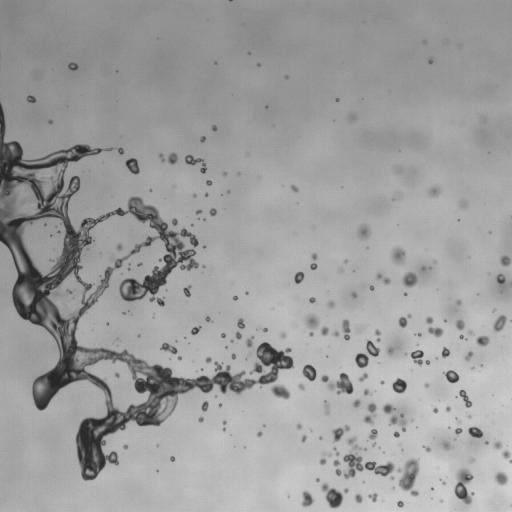droplet: (453, 468, 474, 504), (354, 339, 380, 368), (319, 372, 353, 394), (320, 483, 348, 509), (410, 349, 432, 366), (304, 313, 319, 337), (390, 246, 406, 265), (402, 271, 417, 288), (302, 364, 317, 381), (493, 314, 507, 332), (158, 152, 178, 164), (392, 377, 407, 393), (357, 223, 371, 240), (493, 470, 508, 485), (125, 158, 139, 174), (442, 370, 459, 383), (301, 490, 314, 507), (375, 270, 390, 284), (398, 313, 412, 328), (427, 184, 441, 197), (319, 451, 332, 465), (468, 426, 483, 438), (476, 335, 489, 346), (366, 428, 377, 441), (501, 449, 511, 463), (294, 271, 304, 284), (500, 255, 511, 266), (20, 151, 31, 162), (79, 154, 90, 165), (158, 211, 169, 222), (153, 238, 164, 249), (397, 264, 408, 275), (109, 273, 120, 284), (392, 275, 403, 286), (307, 303, 318, 314), (442, 323, 453, 334), (482, 325, 493, 336), (435, 336, 446, 347), (466, 338, 477, 349), (272, 340, 283, 351), (219, 355, 230, 366), (441, 358, 452, 369), (45, 359, 56, 370), (292, 359, 303, 370), (204, 367, 215, 378), (186, 369, 197, 380), (347, 372, 358, 383), (274, 374, 285, 385), (80, 378, 91, 389), (56, 386, 67, 397), (326, 388, 337, 399), (95, 407, 106, 418), (216, 408, 227, 419), (372, 417, 383, 428), (356, 434, 367, 445), (336, 438, 347, 449), (67, 440, 78, 451), (430, 440, 441, 451), (339, 443, 350, 454), (413, 449, 424, 460), (393, 458, 404, 469), (71, 461, 82, 472), (391, 469, 402, 480), (399, 489, 410, 500), (315, 491, 326, 502), (341, 493, 352, 504), (391, 191, 402, 201), (495, 273, 505, 284), (455, 319, 465, 330), (190, 325, 201, 335), (492, 438, 502, 449), (245, 336, 254, 348), (441, 346, 450, 358), (458, 199, 468, 209), (358, 372, 368, 382), (367, 492, 377, 502), (183, 285, 191, 297), (355, 324, 365, 333), (320, 326, 329, 336), (386, 346, 395, 356), (464, 351, 473, 361), (67, 62, 78, 70), (237, 318, 245, 329), (347, 113, 356, 122), (204, 129, 213, 138), (176, 155, 185, 164), (359, 215, 368, 224), (71, 221, 80, 230), (172, 224, 181, 233), (368, 224, 377, 233), (349, 225, 358, 234), (365, 235, 374, 244), (383, 251, 392, 260), (403, 253, 412, 262), (170, 266, 179, 275), (302, 266, 311, 275), (414, 270, 423, 279), (374, 280, 383, 289), (8, 306, 17, 315), (471, 342, 480, 351), (330, 373, 339, 382), (361, 379, 370, 388), (452, 381, 461, 390), (284, 382, 293, 391), (95, 387, 104, 396), (202, 391, 211, 400), (49, 395, 58, 404), (360, 396, 369, 405), (374, 406, 383, 415), (126, 419, 135, 428), (363, 422, 372, 431), (70, 424, 79, 433), (100, 445, 109, 454), (402, 452, 411, 461), (376, 456, 385, 465), (339, 461, 348, 470), (467, 465, 476, 474), (97, 468, 106, 477), (411, 480, 420, 489), (464, 481, 473, 490), (26, 95, 36, 103), (392, 165, 402, 173), (354, 493, 362, 503), (290, 184, 299, 192), (326, 300, 335, 308), (330, 329, 339, 337), (352, 399, 361, 407), (443, 441, 451, 450), (422, 444, 431, 452), (201, 401, 208, 411), (505, 264, 511, 275), (505, 309, 511, 320), (505, 319, 511, 330), (505, 468, 511, 479), (303, 505, 314, 511), (209, 208, 217, 216), (363, 388, 372, 395), (431, 404, 438, 413), (310, 252, 317, 260), (310, 262, 317, 270), (309, 297, 317, 304), (205, 316, 213, 323), (234, 331, 241, 339), (205, 356, 212, 364), (298, 382, 305, 390), (350, 291, 357, 298), (468, 456, 475, 463), (397, 500, 404, 507), (2, 109, 9, 116), (3, 117, 10, 124), (2, 135, 9, 142), (78, 138, 85, 145), (88, 142, 95, 149), (122, 153, 129, 160), (67, 160, 74, 167), (194, 162, 201, 169), (202, 172, 209, 179), (62, 177, 69, 184), (425, 181, 432, 188), (204, 185, 211, 192), (60, 187, 67, 194), (437, 192, 444, 199), (431, 195, 438, 202), (142, 198, 149, 205), (120, 203, 127, 210), (202, 209, 209, 216), (91, 212, 98, 219), (166, 224, 173, 231), (402, 244, 409, 251), (140, 245, 147, 252), (499, 249, 506, 256), (494, 259, 501, 266), (158, 260, 165, 267), (126, 271, 133, 278), (384, 271, 391, 278), (11, 272, 18, 279), (165, 273, 172, 280), (136, 276, 143, 283), (157, 284, 164, 291), (404, 285, 411, 292), (327, 293, 334, 300), (6, 296, 13, 303), (334, 300, 341, 307), (85, 307, 92, 314), (327, 307, 334, 314), (491, 313, 498, 320), (430, 321, 437, 328), (35, 324, 42, 331), (327, 326, 334, 333), (313, 327, 320, 334), (421, 328, 428, 335), (460, 328, 467, 335), (475, 330, 482, 337), (228, 331, 235, 338), (325, 332, 332, 339), (427, 332, 434, 339), (240, 334, 247, 341), (470, 335, 477, 342), (222, 337, 229, 344), (168, 339, 175, 346), (252, 340, 259, 347), (108, 344, 115, 351), (115, 346, 122, 353), (164, 349, 171, 356), (147, 359, 154, 366), (199, 360, 206, 367), (160, 361, 167, 368), (359, 366, 366, 373), (228, 368, 235, 375), (277, 368, 284, 375), (315, 371, 322, 378), (252, 372, 259, 379), (301, 376, 308, 383), (272, 379, 279, 386), (67, 381, 74, 388), (266, 381, 273, 388), (252, 382, 259, 389), (212, 383, 219, 390), (192, 385, 199, 392), (242, 387, 249, 394), (340, 390, 347, 397), (276, 395, 283, 402), (28, 400, 35, 407), (437, 405, 444, 412), (197, 409, 204, 416), (390, 409, 397, 416), (200, 410, 207, 417), (384, 412, 391, 419), (146, 423, 153, 430), (114, 428, 121, 435), (461, 428, 468, 435), (296, 429, 303, 436), (340, 433, 347, 440), (495, 434, 502, 441), (500, 443, 507, 450), (495, 448, 502, 455), (409, 452, 416, 459), (336, 454, 343, 461), (325, 457, 332, 464), (489, 469, 496, 476), (392, 478, 399, 485), (491, 480, 498, 487), (499, 483, 506, 490), (335, 485, 342, 492), (361, 494, 368, 501), (297, 495, 304, 502), (456, 497, 463, 504), (322, 500, 329, 507), (301, 434, 307, 442), (506, 472, 511, 481), (331, 506, 340, 511), (211, 124, 217, 131), (116, 243, 122, 250), (467, 330, 474, 336), (230, 353, 237, 359), (445, 405, 451, 412), (296, 422, 302, 429), (393, 430, 399, 437), (206, 180, 212, 186), (338, 267, 344, 273), (455, 299, 461, 305), (220, 332, 226, 338), (280, 332, 286, 338), (195, 209, 202, 214), (172, 218, 177, 225), (257, 430, 262, 437), (428, 58, 433, 64), (200, 136, 205, 142), (232, 295, 238, 300), (177, 355, 182, 361), (114, 372, 119, 378), (424, 382, 429, 388), (198, 416, 203, 422), (507, 252, 511, 259), (507, 446, 511, 453), (396, 507, 403, 511), (48, 119, 53, 124), (222, 171, 227, 176), (204, 192, 209, 197), (369, 285, 374, 290), (484, 440, 489, 445), (123, 444, 128, 449), (170, 456, 175, 461), (73, 58, 78, 63), (30, 91, 35, 96), (216, 125, 221, 130), (196, 134, 201, 139), (19, 142, 24, 147), (105, 143, 110, 148), (63, 144, 68, 149), (56, 145, 61, 150), (112, 148, 117, 153), (99, 150, 104, 155), (39, 152, 44, 157), (163, 154, 168, 159), (192, 154, 197, 159), (155, 156, 160, 161), (163, 159, 168, 164), (136, 160, 141, 165), (172, 162, 177, 167), (123, 166, 128, 171), (201, 181, 206, 186), (294, 182, 299, 187), (78, 185, 83, 190), (287, 187, 292, 192), (221, 188, 226, 193), (222, 191, 227, 196), (132, 192, 137, 197), (70, 194, 75, 199), (215, 207, 220, 212), (102, 209, 107, 214), (198, 212, 203, 217), (214, 212, 219, 217), (83, 213, 88, 218), (186, 227, 191, 232), (150, 240, 155, 245), (197, 241, 202, 246), (193, 245, 198, 250), (309, 248, 314, 253), (132, 252, 137, 257), (316, 253, 321, 258), (191, 254, 196, 259), (8, 257, 13, 262), (309, 258, 314, 263), (313, 258, 318, 263), (121, 259, 126, 264), (9, 260, 14, 265), (427, 260, 432, 265), (341, 263, 346, 268), (197, 265, 202, 270), (190, 266, 195, 271), (294, 267, 299, 272), (371, 272, 376, 277), (492, 272, 497, 277), (289, 275, 294, 280), (299, 280, 304, 285), (503, 280, 508, 285), (494, 281, 499, 286), (384, 283, 389, 288), (104, 287, 109, 292), (188, 287, 193, 292), (7, 290, 12, 295), (145, 290, 150, 295), (179, 290, 184, 295), (346, 290, 351, 295), (355, 290, 360, 295), (116, 293, 121, 298), (456, 294, 461, 299), (347, 295, 352, 300), (332, 297, 337, 302), (351, 297, 356, 302), (451, 297, 456, 302), (134, 298, 139, 303), (460, 298, 465, 303), (152, 299, 157, 304), (127, 300, 132, 305), (93, 301, 98, 306), (453, 303, 458, 308), (402, 312, 407, 317), (428, 312, 433, 317), (209, 315, 214, 320), (18, 316, 23, 321), (421, 316, 426, 321), (405, 317, 410, 322), (25, 319, 30, 324), (232, 319, 237, 324), (504, 319, 509, 324), (76, 320, 81, 325), (394, 320, 399, 325), (348, 324, 353, 329), (187, 325, 192, 330), (306, 327, 311, 332), (378, 327, 383, 332), (238, 328, 243, 333), (458, 329, 463, 334), (498, 329, 503, 334), (186, 331, 191, 336), (339, 331, 344, 336), (441, 331, 446, 336), (285, 333, 290, 338), (216, 334, 221, 339), (233, 337, 238, 342), (76, 341, 81, 346), (373, 341, 378, 346), (95, 343, 100, 348), (174, 343, 179, 348), (391, 343, 396, 348), (417, 345, 422, 350), (437, 347, 442, 352), (126, 348, 131, 353), (393, 348, 398, 353), (176, 350, 181, 355), (462, 350, 467, 355), (437, 352, 442, 357), (172, 353, 177, 358), (226, 353, 231, 358), (351, 353, 356, 358), (134, 354, 139, 359), (201, 354, 206, 359), (420, 355, 425, 360), (469, 355, 474, 360), (408, 357, 413, 362), (291, 358, 296, 363), (351, 360, 356, 365), (413, 362, 418, 367), (312, 363, 317, 368), (474, 363, 479, 368), (249, 364, 254, 369), (343, 369, 348, 374), (455, 369, 460, 374), (170, 372, 175, 377), (400, 375, 405, 380), (441, 375, 446, 380), (363, 377, 368, 382), (391, 377, 396, 382), (421, 378, 426, 383), (321, 381, 326, 386), (351, 383, 356, 388), (419, 383, 424, 388), (388, 386, 393, 391), (404, 386, 409, 391), (421, 386, 426, 391), (368, 387, 373, 392), (393, 391, 398, 396), (176, 392, 181, 397), (457, 395, 462, 400), (467, 395, 472, 400), (197, 401, 202, 406), (174, 404, 179, 409), (206, 405, 211, 410), (328, 405, 333, 410), (428, 406, 433, 411), (466, 406, 471, 411), (171, 410, 176, 415), (365, 410, 370, 415), (447, 410, 452, 415), (403, 414, 408, 419), (293, 419, 298, 424), (159, 421, 164, 426), (468, 422, 473, 427), (291, 423, 296, 428), (339, 423, 344, 428), (457, 423, 462, 428), (332, 424, 337, 429), (404, 424, 409, 429), (451, 424, 456, 429), (477, 424, 482, 429), (260, 427, 265, 432), (396, 427, 401, 432), (224, 429, 229, 434), (305, 431, 310, 436), (375, 432, 380, 437), (451, 432, 456, 437), (329, 433, 334, 438), (466, 433, 471, 438), (297, 434, 302, 439), (101, 435, 106, 440), (473, 436, 478, 441), (368, 438, 373, 443), (449, 440, 454, 445), (488, 440, 493, 445), (428, 443, 433, 448), (438, 443, 443, 448), (441, 448, 446, 453), (447, 448, 452, 453), (330, 449, 335, 454), (317, 454, 322, 459), (331, 454, 336, 459), (368, 457, 373, 462), (504, 457, 509, 462), (104, 459, 109, 464), (360, 460, 365, 465), (381, 460, 386, 465), (317, 463, 322, 468), (321, 463, 326, 468), (331, 465, 336, 470), (362, 467, 367, 472), (354, 469, 359, 474), (369, 469, 374, 474), (331, 472, 336, 477), (386, 472, 391, 477), (376, 473, 381, 478), (77, 474, 82, 479), (347, 475, 352, 480), (87, 478, 92, 483), (318, 479, 323, 484), (452, 479, 457, 484), (369, 489, 374, 494), (466, 489, 471, 494), (375, 495, 380, 500), (470, 495, 475, 500), (367, 497, 372, 502), (351, 498, 356, 503), (402, 503, 407, 508), (49, 233, 55, 237), (0, 240, 3, 247), (284, 75, 289, 79), (192, 193, 197, 197), (137, 262, 142, 266), (492, 308, 496, 313), (230, 339, 234, 344), (380, 380, 384, 385), (218, 403, 222, 408), (466, 414, 471, 418), (318, 435, 322, 440), (372, 442, 376, 447), (315, 477, 319, 482), (286, 493, 290, 498), (202, 245, 206, 249), (344, 259, 348, 263), (421, 266, 425, 270), (245, 291, 249, 295), (391, 486, 395, 490), (430, 486, 434, 490), (439, 499, 443, 503), (236, 172, 241, 175), (508, 261, 511, 266), (508, 454, 511, 459), (422, 40, 426, 43), (247, 51, 250, 55), (256, 63, 260, 66), (335, 98, 339, 101), (226, 190, 230, 193), (488, 230, 491, 234), (365, 246, 369, 249), (433, 260, 437, 263), (126, 267, 130, 270), (428, 266, 432, 269), (403, 292, 407, 295), (416, 342, 419, 346), (225, 345, 228, 349), (200, 367, 203, 371), (470, 366, 474, 369), (214, 394, 217, 398), (156, 443, 159, 447), (361, 480, 365, 483), (214, 61, 217, 64), (265, 105, 268, 108), (149, 188, 152, 191), (190, 223, 193, 226), (487, 272, 490, 275), (443, 319, 446, 322), (106, 322, 109, 325), (137, 334, 140, 337), (404, 352, 407, 355), (480, 364, 483, 367), (195, 370, 198, 373), (454, 395, 457, 398), (410, 419, 413, 422), (262, 424, 265, 427), (378, 446, 381, 449), (430, 497, 433, 500), (229, 0, 232, 3), (246, 54, 249, 57), (431, 57, 434, 60), (67, 60, 70, 63), (216, 60, 219, 63), (425, 60, 428, 63), (259, 61, 262, 64), (76, 62, 79, 65), (253, 62, 256, 65), (431, 62, 434, 65), (428, 63, 431, 66), (213, 64, 216, 67), (255, 65, 258, 68), (72, 69, 75, 72), (335, 94, 338, 97), (338, 97, 341, 100), (332, 98, 335, 101), (28, 101, 31, 104), (335, 101, 338, 104), (265, 102, 268, 105), (262, 106, 265, 109), (267, 106, 270, 109), (50, 117, 53, 120), (45, 119, 48, 122), (49, 123, 52, 126), (212, 130, 215, 133), (204, 134, 207, 137), (204, 138, 207, 141), (98, 145, 101, 148), (116, 145, 119, 148), (108, 150, 111, 153), (157, 150, 160, 153), (184, 152, 187, 155), (37, 155, 40, 158), (199, 155, 202, 158), (203, 159, 206, 162), (188, 163, 191, 166), (204, 164, 207, 167), (223, 168, 226, 171), (204, 169, 207, 172), (131, 172, 134, 175), (200, 172, 203, 175), (226, 172, 229, 175), (79, 179, 82, 182), (209, 184, 212, 187), (146, 187, 149, 190), (151, 187, 154, 190), (229, 188, 232, 191), (190, 191, 193, 194), (207, 191, 210, 194), (201, 192, 204, 195), (206, 195, 209, 198), (219, 195, 222, 198), (67, 202, 70, 205), (114, 206, 117, 209), (195, 207, 198, 210), (211, 215, 214, 218), (456, 215, 459, 218), (199, 217, 202, 220), (459, 218, 462, 221), (190, 220, 193, 223), (455, 220, 458, 223), (486, 232, 489, 235), (205, 244, 208, 247), (204, 247, 207, 250), (9, 254, 12, 257), (341, 257, 344, 260), (136, 260, 139, 263), (346, 261, 349, 264), (12, 264, 15, 267), (139, 264, 142, 267), (129, 265, 132, 268), (425, 266, 428, 269), (313, 268, 316, 271), (430, 268, 433, 271), (352, 271, 355, 274), (372, 283, 375, 286), (184, 284, 187, 287), (366, 287, 369, 290), (373, 287, 376, 290), (245, 288, 248, 291), (248, 291, 251, 294), (234, 292, 237, 295), (400, 292, 403, 295), (244, 294, 247, 297), (403, 295, 406, 298), (306, 296, 309, 299), (314, 297, 317, 300), (162, 298, 165, 301), (236, 298, 239, 301), (306, 299, 309, 302), (312, 301, 315, 304), (489, 307, 492, 310), (124, 309, 127, 312), (127, 311, 130, 314), (410, 312, 413, 315), (149, 313, 152, 316), (122, 314, 125, 317), (203, 314, 206, 317), (103, 320, 106, 323), (242, 320, 245, 323), (108, 321, 111, 324), (103, 323, 106, 326), (264, 324, 267, 327), (267, 328, 270, 331), (197, 330, 200, 333), (219, 330, 222, 333), (415, 330, 418, 333), (46, 331, 49, 334), (135, 331, 138, 334), (224, 331, 227, 334), (347, 332, 350, 335), (140, 333, 143, 336), (49, 334, 52, 337), (414, 334, 417, 337), (420, 334, 423, 337), (463, 334, 466, 337), (180, 335, 183, 338), (307, 335, 310, 338), (456, 335, 459, 338), (137, 337, 140, 340), (461, 338, 464, 341), (345, 339, 348, 342), (158, 344, 161, 347), (221, 345, 224, 348), (445, 345, 448, 348), (411, 348, 414, 351), (377, 351, 380, 354), (234, 352, 237, 355), (448, 352, 451, 355), (327, 354, 330, 357), (235, 355, 238, 358), (445, 355, 448, 358), (181, 356, 184, 359), (323, 356, 326, 359), (480, 360, 483, 363), (422, 361, 425, 364), (429, 361, 432, 364), (482, 363, 485, 366), (213, 364, 216, 367), (479, 366, 482, 369), (450, 367, 453, 370), (472, 368, 475, 371), (444, 369, 447, 372), (367, 373, 370, 376), (380, 377, 383, 380), (377, 379, 380, 382), (426, 380, 429, 383), (428, 384, 431, 387), (462, 387, 465, 390), (323, 396, 326, 399), (326, 399, 329, 402), (321, 401, 324, 404), (215, 403, 218, 406), (221, 403, 224, 406), (447, 403, 450, 406), (431, 411, 434, 414), (436, 411, 439, 414), (457, 416, 460, 419), (195, 418, 198, 421), (202, 418, 205, 421), (262, 420, 265, 423), (346, 422, 349, 425), (415, 422, 418, 425), (265, 423, 268, 426), (444, 425, 447, 428), (416, 427, 419, 430), (255, 429, 258, 432), (320, 433, 323, 436), (259, 435, 262, 438), (392, 435, 395, 438), (315, 436, 318, 439), (304, 438, 307, 441), (319, 439, 322, 442), (124, 441, 127, 444), (120, 443, 123, 446), (419, 443, 422, 446), (424, 443, 427, 446), (483, 443, 486, 446), (374, 444, 377, 447), (400, 444, 403, 447), (127, 445, 130, 448), (397, 447, 400, 450), (421, 447, 424, 450), (379, 448, 382, 451), (174, 456, 177, 459), (116, 457, 119, 460), (168, 460, 171, 463), (172, 460, 175, 463), (158, 469, 161, 472), (153, 470, 156, 473), (312, 478, 315, 481), (438, 480, 441, 483), (441, 484, 444, 487), (432, 485, 435, 488), (428, 488, 431, 491), (284, 496, 287, 499), (396, 498, 399, 501), (400, 498, 403, 501), (436, 499, 439, 502), (442, 500, 445, 503), (372, 501, 375, 504), (395, 505, 398, 508), (122, 312, 126, 314), (203, 218, 205, 221), (457, 219, 460, 221), (99, 252, 101, 255), (128, 262, 130, 265), (509, 319, 511, 322), (175, 339, 177, 342), (435, 357, 438, 359), (448, 426, 450, 429), (398, 443, 401, 445), (243, 446, 246, 448), (401, 448, 403, 451), (156, 469, 158, 472), (381, 499, 384, 501), (116, 70, 118, 72), (197, 217, 199, 219), (165, 289, 167, 291), (477, 293, 479, 295), (188, 342, 190, 344), (116, 344, 118, 346), (326, 355, 328, 357), (410, 369, 412, 371), (416, 426, 418, 428), (383, 451, 385, 453), (184, 337, 186, 338), (488, 152, 489, 153)
ligament: (333, 436, 419, 496), (382, 402, 407, 431), (185, 154, 206, 173), (425, 316, 443, 338), (331, 424, 350, 442), (363, 402, 377, 426), (459, 389, 472, 407), (453, 416, 462, 440), (160, 342, 177, 354), (341, 318, 350, 340), (323, 400, 330, 415), (374, 329, 381, 342), (256, 326, 268, 332), (244, 351, 252, 360), (333, 446, 339, 457), (438, 478, 446, 485), (222, 420, 227, 431), (459, 334, 467, 340), (414, 332, 423, 337), (152, 312, 155, 318), (309, 427, 312, 432), (509, 281, 511, 287), (116, 337, 118, 340), (169, 357, 171, 360), (228, 0, 233, 1), (510, 504, 511, 507)
